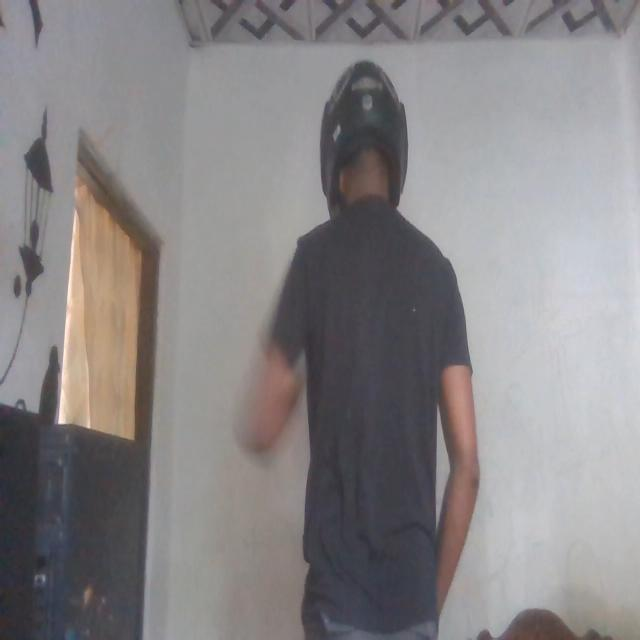Helmet_Wearer: (306, 45, 418, 252)
Person: (272, 49, 474, 640)
